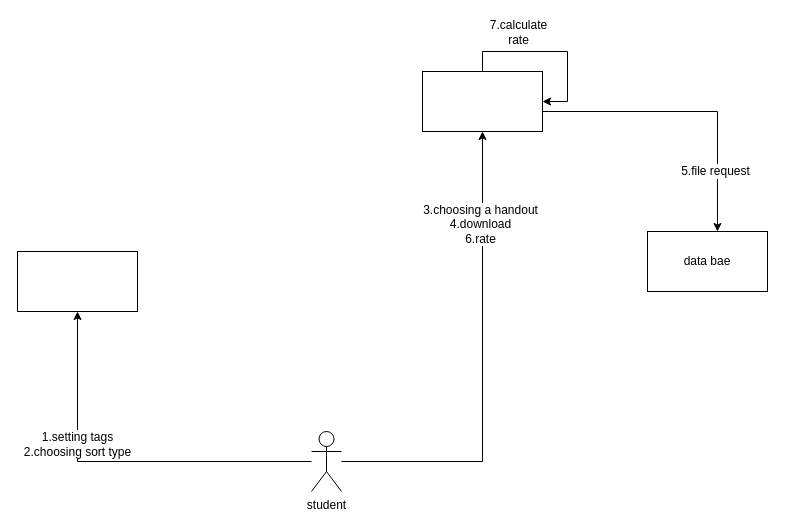
This 785x529 diagram has some shape labels left out. Here are the shapes that lost their labels. From the top down, the centre of each, then its label:
At pixel 482 101: "download page".
At pixel 77 281: "search page".
